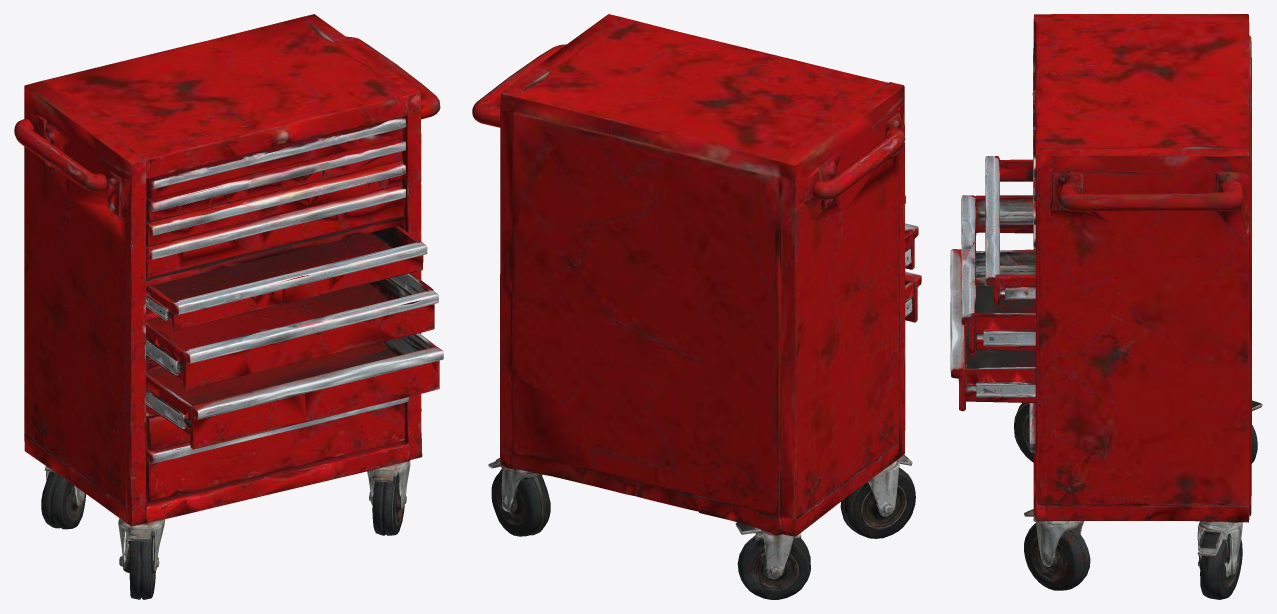
The model's file is toolchest.glb.
3 renders of one model, left to right at view 1: azimuth 30°, elevation 25°; view 2: azimuth 150°, elevation 25°; view 3: azimuth 270°, elevation 25°, orthographic.
Bounding box in the file's own units: 1.59 × 1.9 × 1.21.
Materials: 1 (1 with a texture image).
